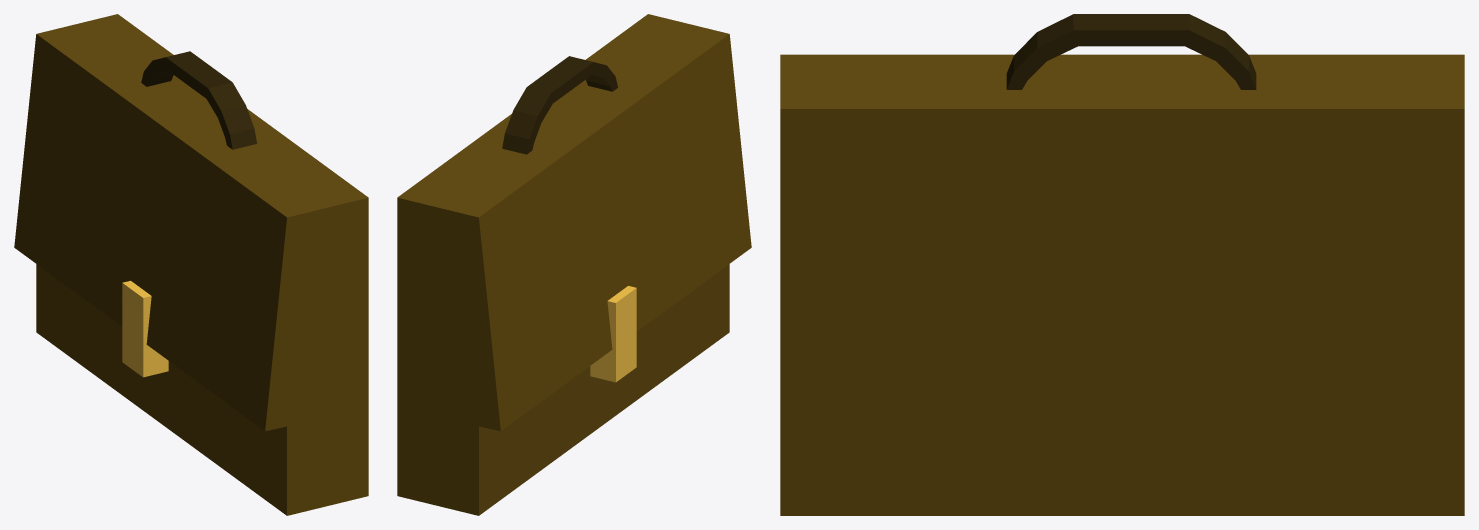
Rendered from Maletin.fbx.
The picture shows the model from 3 angles, left to right: view 1: azimuth 30°, elevation 25°; view 2: azimuth 150°, elevation 25°; view 3: azimuth 270°, elevation 25°; orthographic projection. The views are drawn at different scales.
Parts seen in each view (by area): view 1: pCube9, pCube10, pCube11; view 2: pCube9, pCube10, pCube11; view 3: pCube9, pCube10.
Boxes of the visible parts, x1=… form: pCube9: x1=14, y1=14, x2=368, y2=515; pCube10: x1=141, y1=51, x2=256, y2=149; pCube11: x1=122, y1=280, x2=168, y2=377; pCube9: x1=397, y1=14, x2=751, y2=515; pCube10: x1=502, y1=56, x2=617, y2=154; pCube11: x1=590, y1=286, x2=636, y2=382; pCube9: x1=780, y1=54, x2=1464, y2=515; pCube10: x1=1006, y1=14, x2=1256, y2=89.
Size of the model in its own units: 0.125 by 0.3815 by 0.5071.
